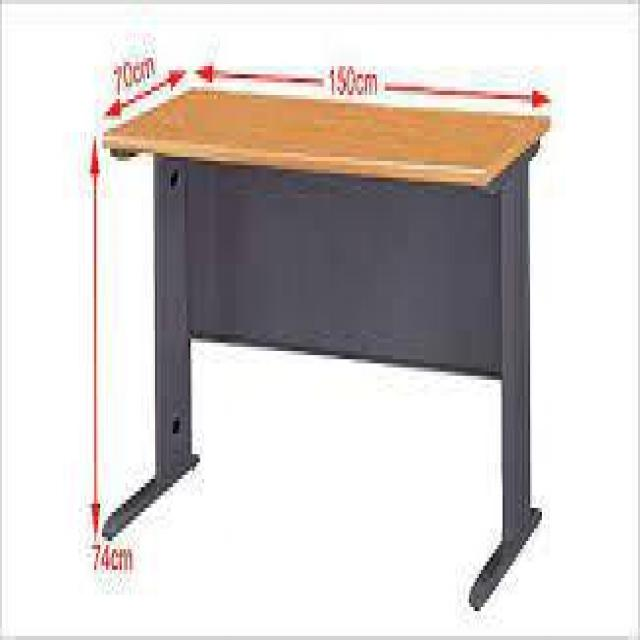table: (78, 55, 572, 626)
